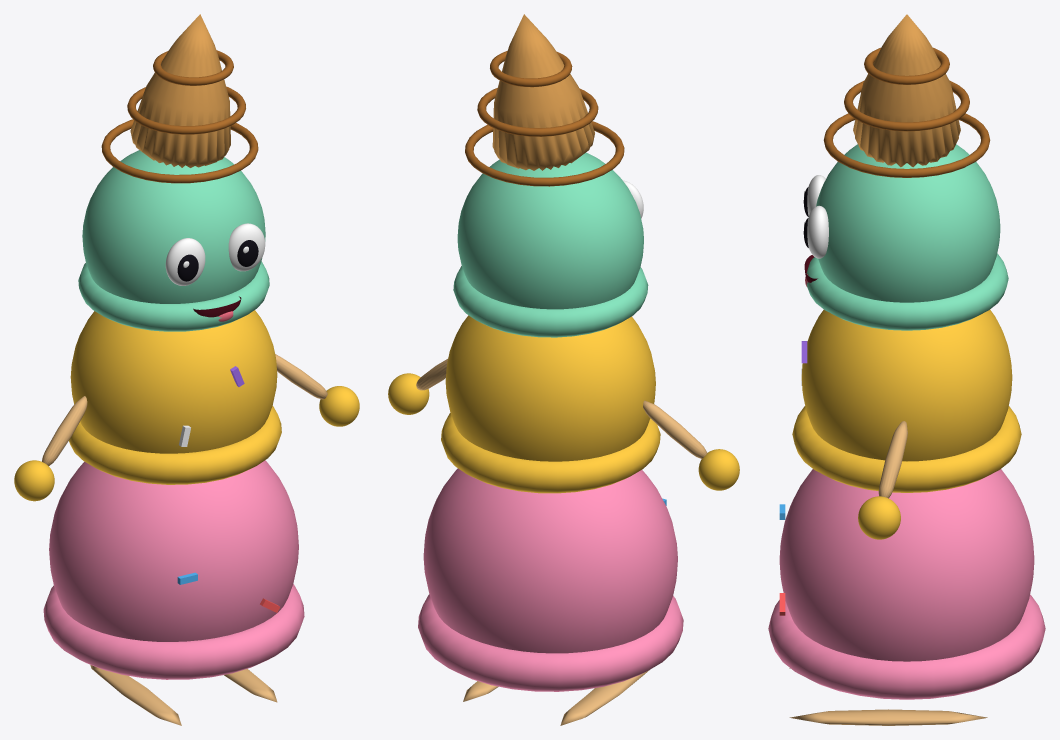
The picture shows the model from 3 angles, left to right: view 1: azimuth 30°, elevation 25°; view 2: azimuth 150°, elevation 25°; view 3: azimuth 270°, elevation 25°; orthographic projection. The views are drawn at different scales.
Visible parts, largest first — view 1: pink, mango, mint, drippink, cone, dripmango, dripmint, d_wafer0, ski-1, d_wafer1, hand-1, hand1 (+6 smaller); view 2: pink, mango, mint, drippink, cone, dripmango, dripmint, d_wafer0, d_wafer1, hand-1, hand1, ski-1 (+2 smaller); view 3: pink, mango, mint, drippink, cone, dripmango, dripmint, ski1, d_wafer0, d_wafer1, hand1, arm1 (+2 smaller).
Part boxes in pixels (x1,y1,x2,y2): pink: (49,460,298,641); mango: (70,310,277,453); mint: (82,150,265,303); drippink: (43,584,304,679); cone: (130,14,230,167); dripmango: (69,406,281,484); dripmint: (78,261,269,331); d_wafer0: (101,119,258,183); ski-1: (90,665,181,725); d_wafer1: (127,86,245,134); hand-1: (14,460,54,501); hand1: (319,386,359,426); pink: (423,468,677,653); mango: (445,315,655,461); mint: (457,152,643,309); drippink: (418,594,683,691); cone: (492,14,594,170); dripmango: (441,413,660,493); dripmint: (453,266,648,337); d_wafer0: (465,121,624,186); d_wafer1: (477,88,598,136); hand-1: (698,449,739,490); hand1: (388,373,429,414); ski-1: (560,670,649,725); pink: (779,469,1034,661); mango: (801,309,1012,461); mint: (816,144,1000,302); drippink: (768,594,1045,699); cone: (853,14,960,167); dripmango: (792,406,1021,492); dripmint: (806,253,1008,330); ski1: (789,709,987,725); d_wafer0: (823,113,990,177); d_wafer1: (844,80,969,131); hand1: (858,496,900,539); arm1: (878,421,907,498).
Bounding box in the file's own units: 2.27 × 4.2 × 1.51.
